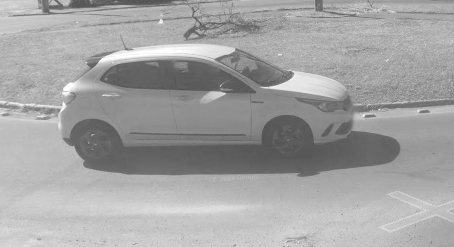car: (55, 31, 361, 174)
